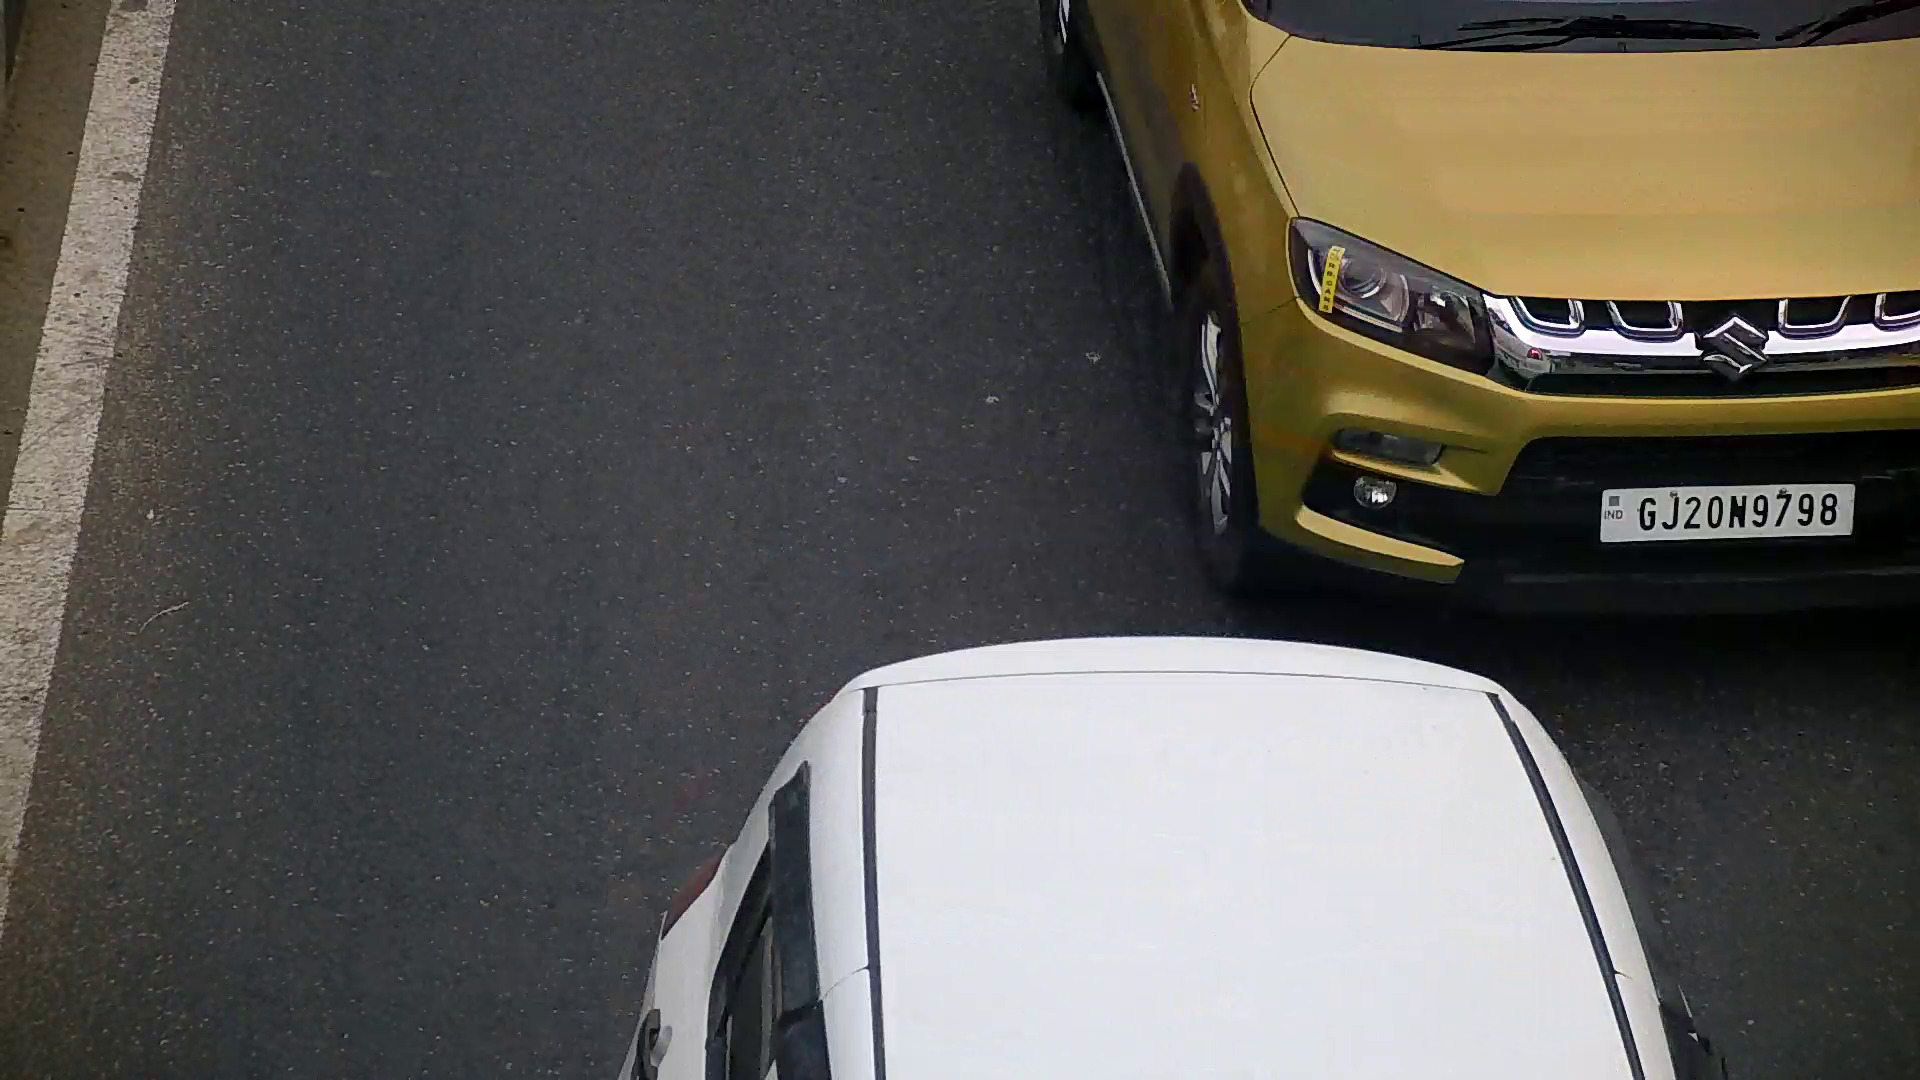numberplate: (1597, 480, 1860, 542)
